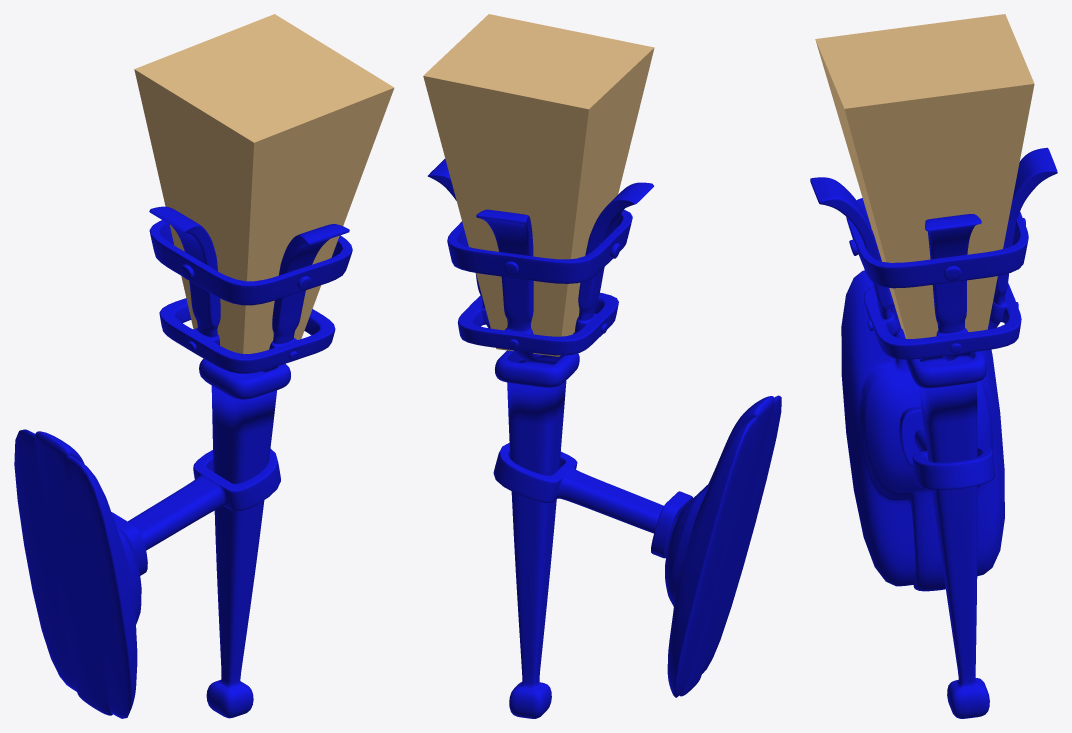
Rendered from mashal1.fbx.
3 renders of one model, left to right at view 1: azimuth 30°, elevation 25°; view 2: azimuth 150°, elevation 25°; view 3: azimuth 270°, elevation 25°, orthographic. The views are drawn at different scales.
Visible parts, largest first — view 1: Wall-torch, fire; view 2: Wall-torch, fire; view 3: Wall-torch, fire.
Boxes of the visible parts, bbox=[...] form: Wall-torch: bbox=[14, 206, 352, 718]; fire: bbox=[134, 14, 394, 353]; Wall-torch: bbox=[427, 159, 781, 718]; fire: bbox=[423, 14, 654, 356]; Wall-torch: bbox=[810, 147, 1057, 718]; fire: bbox=[815, 14, 1034, 338].
Size of the model in its own units: 96.96 by 189 by 63.44.
